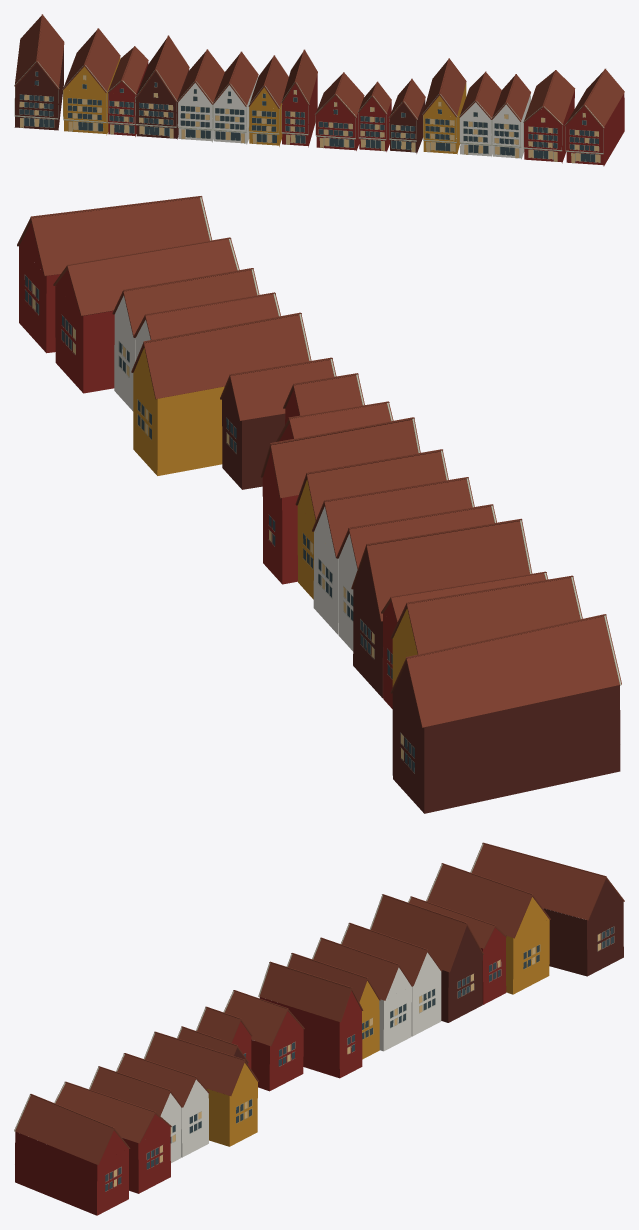
File: bryggen-far.glb
The picture shows the model from 3 angles, top to bottom: view 1: azimuth 30°, elevation 25°; view 2: azimuth 150°, elevation 25°; view 3: azimuth 270°, elevation 25°; orthographic projection. The views are drawn at different scales.
Visible parts, largest first — view 1: bryggen-0-roof, bryggen-0-glass, bryggen-0-red, bryggen-0-trim, bryggen-0-brown, bryggen-0-white, bryggen-0-ochre, bryggen-0-glow; view 2: bryggen-0-roof, bryggen-0-brown, bryggen-0-red, bryggen-0-ochre, bryggen-0-white, bryggen-0-trim, bryggen-0-glass; view 3: bryggen-0-roof, bryggen-0-red, bryggen-0-brown, bryggen-0-ochre, bryggen-0-white, bryggen-0-glass, bryggen-0-trim, bryggen-0-glow.
Part boxes in pixels (x1,y1,x2,y2): bryggen-0-roof: [14, 14, 624, 128]; bryggen-0-glass: [19, 72, 598, 162]; bryggen-0-red: [108, 62, 624, 166]; bryggen-0-trim: [14, 61, 604, 163]; bryggen-0-brown: [14, 48, 425, 153]; bryggen-0-white: [178, 76, 530, 159]; bryggen-0-ochre: [63, 57, 466, 154]; bryggen-0-glow: [19, 75, 600, 162]; bryggen-0-roof: [17, 196, 621, 727]; bryggen-0-brown: [222, 380, 620, 813]; bryggen-0-red: [19, 222, 397, 708]; bryggen-0-ochre: [133, 348, 417, 686]; bryggen-0-white: [114, 295, 357, 651]; bryggen-0-trim: [24, 197, 621, 773]; bryggen-0-glass: [25, 276, 414, 772]; bryggen-0-roof: [14, 842, 624, 1165]; bryggen-0-red: [15, 928, 506, 1215]; bryggen-0-brown: [234, 879, 623, 1063]; bryggen-0-ochre: [207, 897, 549, 1146]; bryggen-0-white: [160, 952, 441, 1162]; bryggen-0-glass: [105, 927, 613, 1191]; bryggen-0-trim: [14, 843, 614, 1191]; bryggen-0-glow: [113, 933, 600, 1186].
Bounding box in the file's own units: 111 × 16.16 × 97.95.
